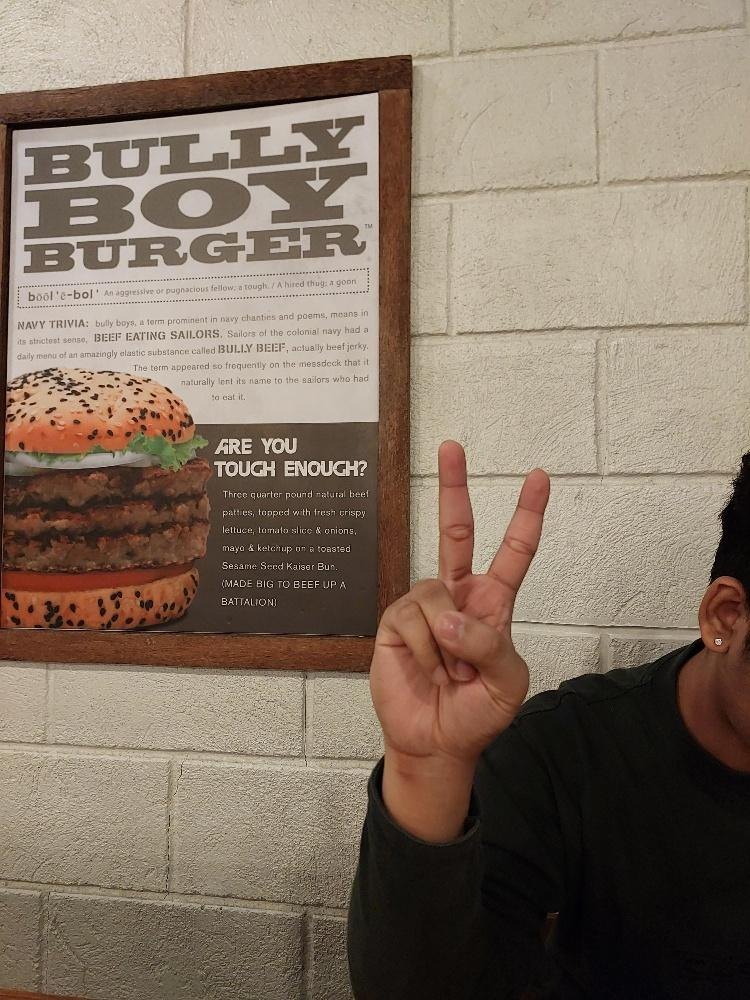v: (365, 436, 551, 756)
